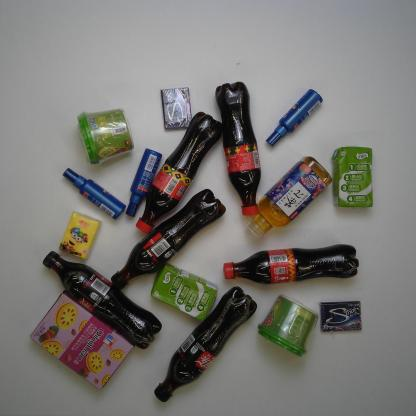Dessert: (29, 290, 136, 390)
Drink: (154, 286, 258, 404), (41, 250, 162, 350), (110, 187, 226, 291), (134, 111, 224, 235), (245, 156, 333, 242), (214, 80, 263, 217), (222, 244, 360, 284)
Gum: (318, 300, 362, 333), (160, 87, 192, 132)
Instant Drink: (256, 293, 320, 359), (76, 107, 135, 166)
Milk: (151, 262, 218, 322), (330, 146, 375, 209)
Personal Hygiene: (264, 87, 324, 149), (62, 167, 126, 221), (124, 148, 163, 218)
Tissue: (58, 210, 102, 261)
